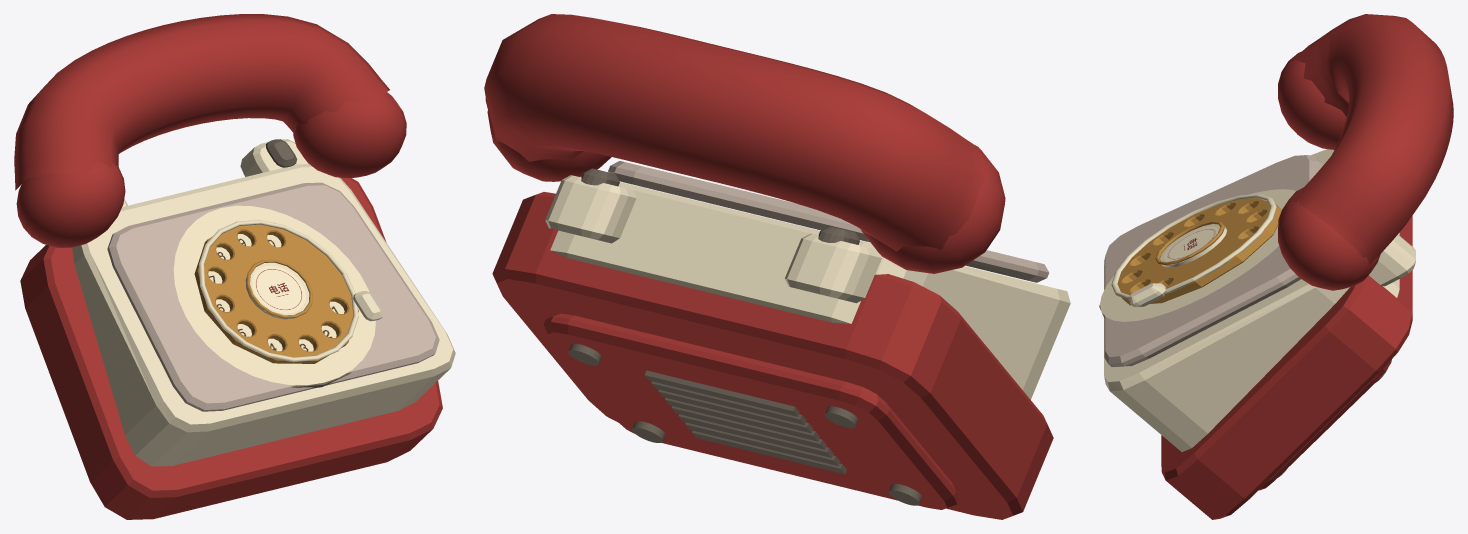
Rendered from rotary-phone.glb.
The picture shows the model from 3 angles, left to right: view 1: azimuth 30°, elevation 25°; view 2: azimuth 150°, elevation 25°; view 3: azimuth 270°, elevation 25°; orthographic projection. The views are drawn at different scales.
Parts seen in each view (by area): view 1: rotary-phone; view 2: rotary-phone; view 3: rotary-phone.
Part boxes in pixels (x1,y1,x2,y2): rotary-phone: (14,14,455,519); rotary-phone: (484,14,1070,519); rotary-phone: (1099,14,1453,519).
Bounding box in the file's own units: 0.9334 × 0.9255 × 0.7507.
7 materials, 2 textured.
